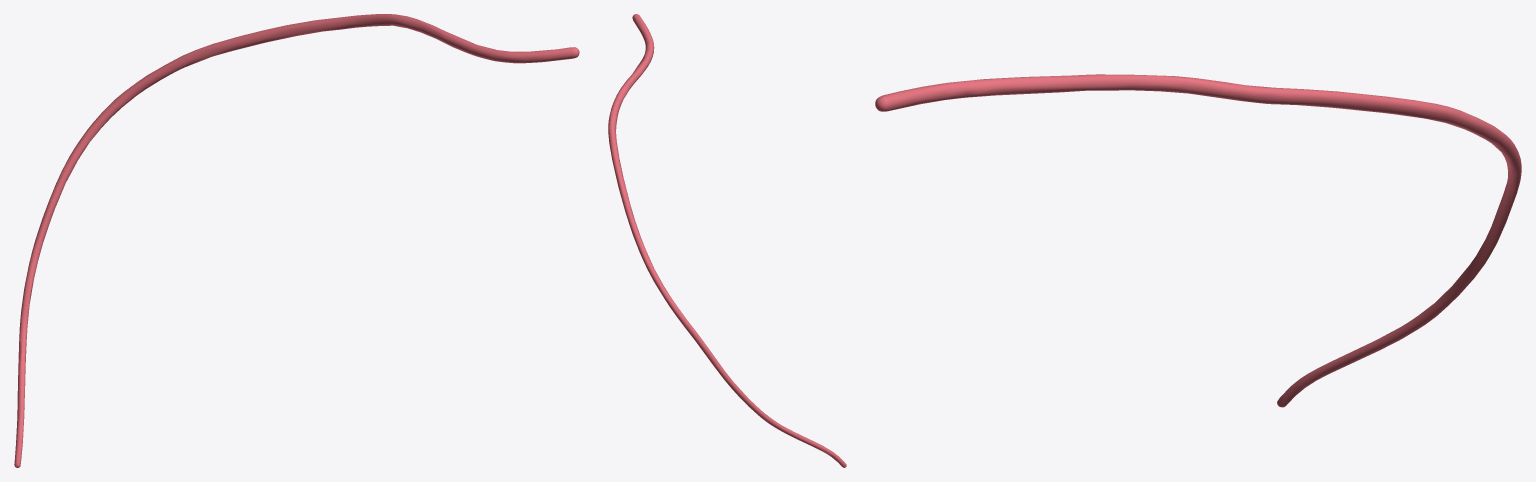
The model's file is fma4844_fj1995.glb.
3 renders of one model, left to right at view 1: azimuth 30°, elevation 25°; view 2: azimuth 150°, elevation 25°; view 3: azimuth 270°, elevation 25°, orthographic. The views are drawn at different scales.
Visible parts, largest first — view 1: FMA4844_FJ1995; view 2: FMA4844_FJ1995; view 3: FMA4844_FJ1995.
Boxes of the visible parts, x1,y1,x2,y2 form: FMA4844_FJ1995: (14, 14, 579, 467); FMA4844_FJ1995: (608, 14, 846, 467); FMA4844_FJ1995: (875, 74, 1521, 407).
Bounding box in the file's own units: 0.0711 × 0.0662 × 0.0636.
